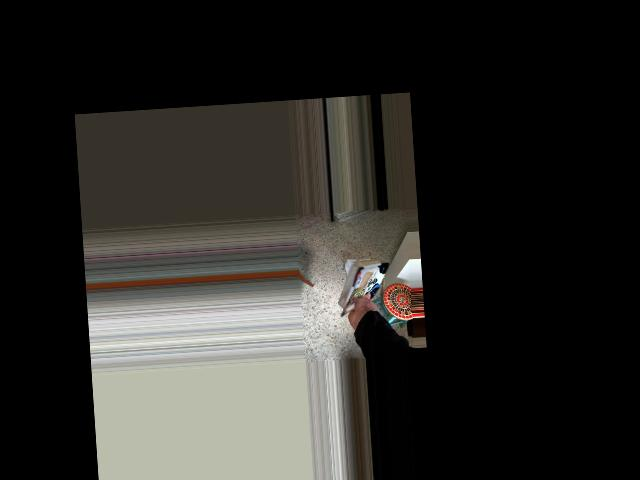cheese: (329, 255, 402, 330)
